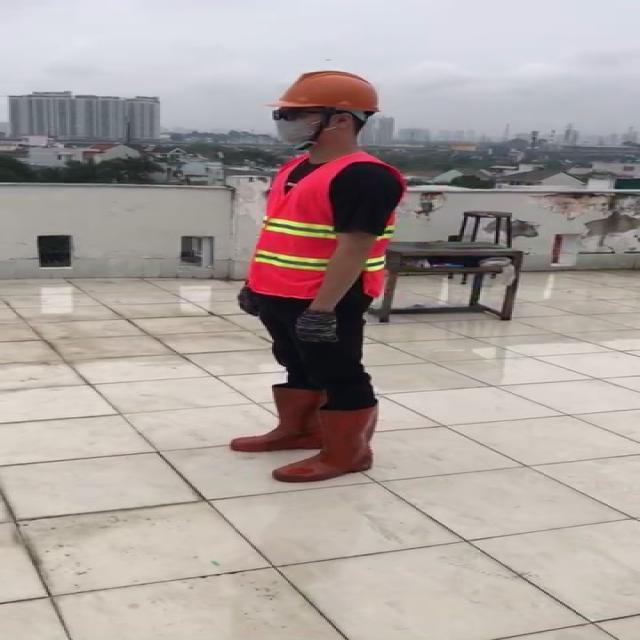gloves: (290, 300, 346, 346)
helmet: (266, 66, 393, 126)
safety_vest: (245, 148, 364, 302)
